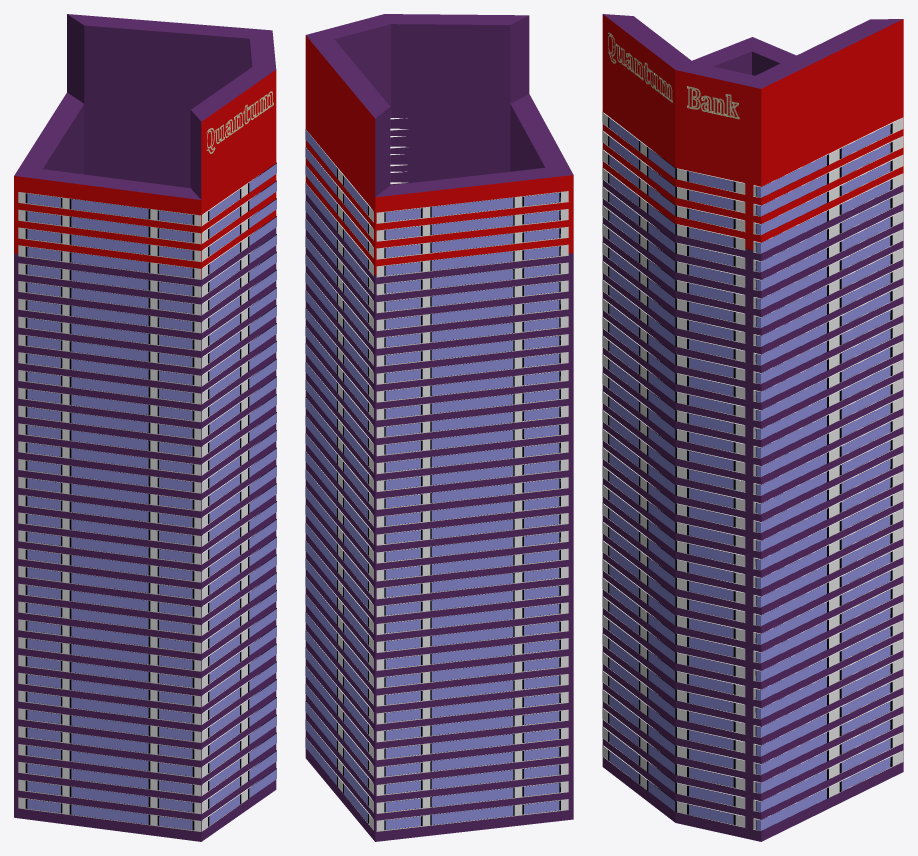
File: TwoTropicanaBoulevard.fbx
The picture shows the model from 3 angles, left to right: view 1: azimuth 30°, elevation 25°; view 2: azimuth 150°, elevation 25°; view 3: azimuth 270°, elevation 25°; orthographic projection. The views are drawn at different scales.
Parts seen in each view (by area): view 1: 2TropicanaBoulevard, Window.003, Window, Text; view 2: 2TropicanaBoulevard, Window.002, Window.001; view 3: 2TropicanaBoulevard, Window.001, Window, Text, Text.001.
Boxes of the visible parts, x1,y1,x2,y2 form: 2TropicanaBoulevard: [14, 14, 276, 841]; Window.003: [18, 192, 201, 831]; Window: [202, 159, 276, 831]; Text: [206, 91, 273, 153]; 2TropicanaBoulevard: [305, 14, 573, 841]; Window.002: [376, 191, 568, 831]; Window.001: [305, 129, 373, 830]; 2TropicanaBoulevard: [602, 14, 903, 841]; Window.001: [753, 117, 903, 830]; Window: [602, 112, 745, 827]; Text: [608, 32, 672, 102]; Text.001: [687, 86, 739, 119].
Bounding box in the file's own units: 5047 × 13201 × 4793.
